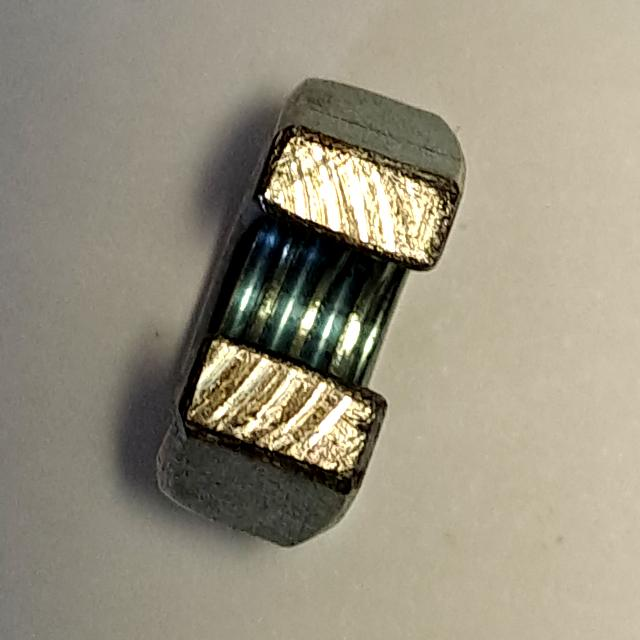Side-Fracture: (130, 66, 478, 559)
